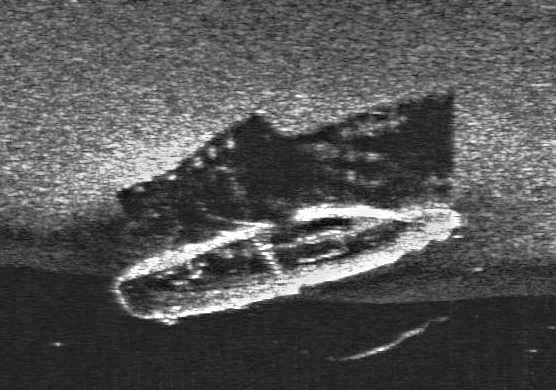ship: (113, 196, 461, 324)
